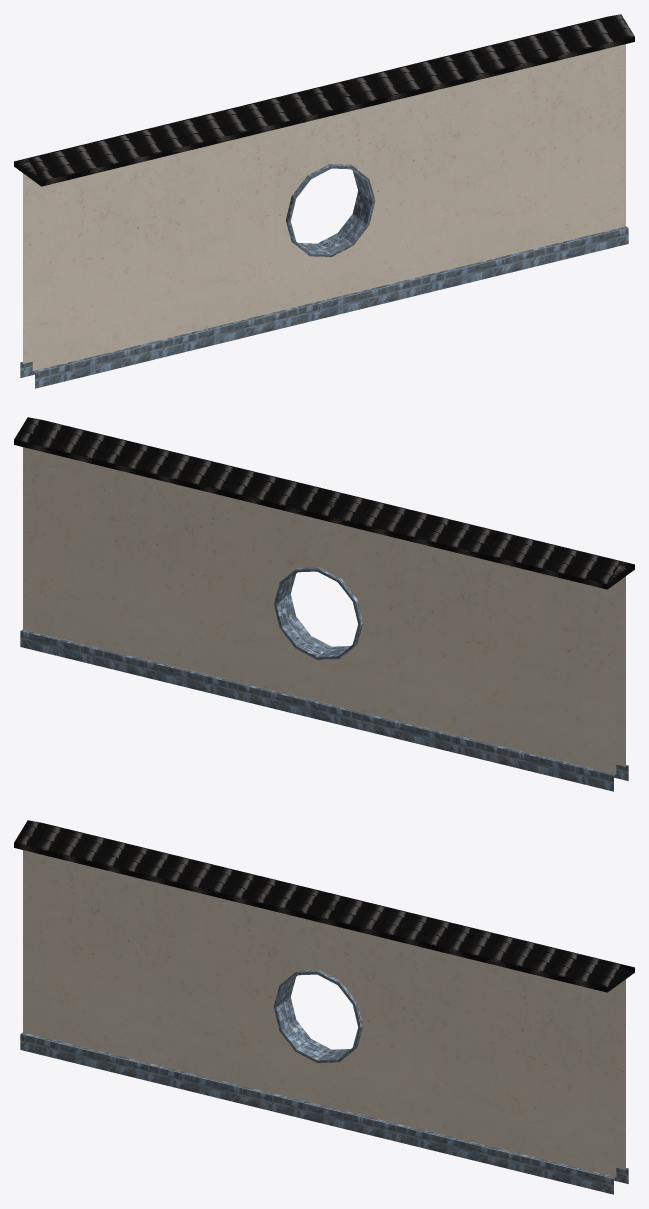
Rendered from WallHighJump02.fbx.
3 views of the same model, one above another, from view 1: azimuth 30°, elevation 25°; view 2: azimuth 150°, elevation 25°; view 3: azimuth 330°, elevation 25° (orthographic).
Parts seen in each view (by area): view 1: Cube_022, Cube_043, Cube_044, Cube_045; view 2: Cube_022, Cube_043, Cube_044, Cube_045; view 3: Cube_022, Cube_043, Cube_044, Cube_045.
Boxes of the visible parts, x1,y1,x2,y2 form: Cube_022: (23, 44, 625, 370); Cube_043: (14, 14, 634, 186); Cube_044: (20, 226, 628, 388); Cube_045: (285, 164, 375, 256); Cube_022: (23, 447, 625, 773); Cube_043: (14, 417, 634, 589); Cube_044: (20, 629, 628, 791); Cube_045: (273, 567, 363, 659); Cube_022: (23, 850, 625, 1176); Cube_043: (14, 820, 634, 992); Cube_044: (20, 1032, 628, 1194); Cube_045: (273, 970, 363, 1062).
Bounding box in the file's own units: 2155 × 779 × 173.
